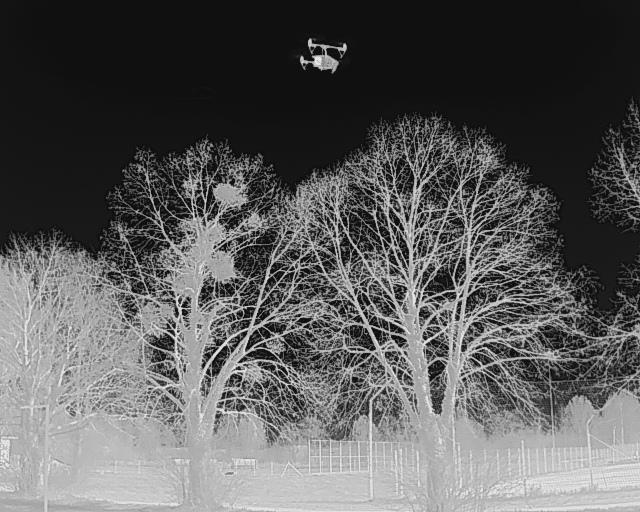drone: (288, 32, 358, 87)
